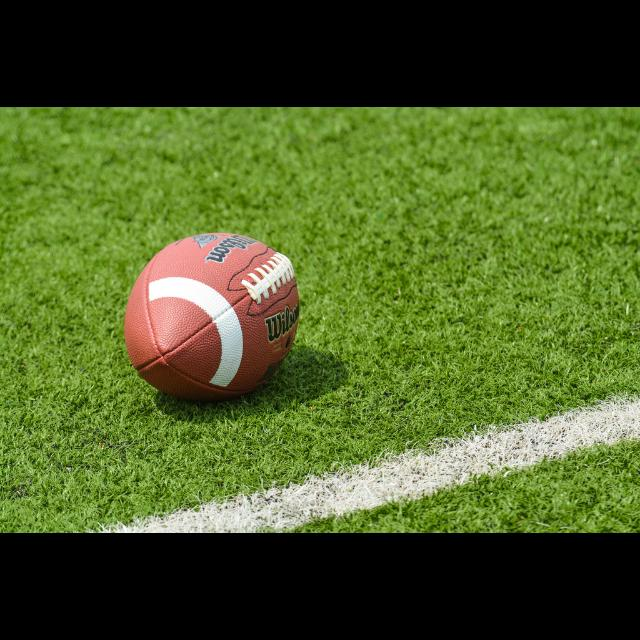Football: (126, 232, 302, 404)
